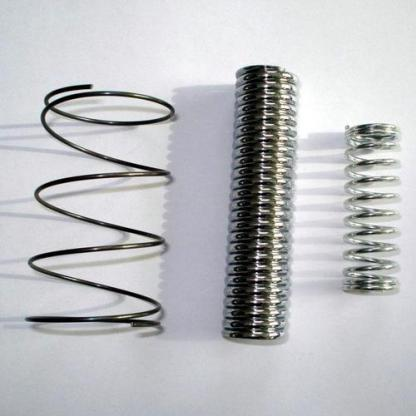FOD: (19, 78, 179, 331), (221, 62, 306, 347), (339, 118, 408, 298)
